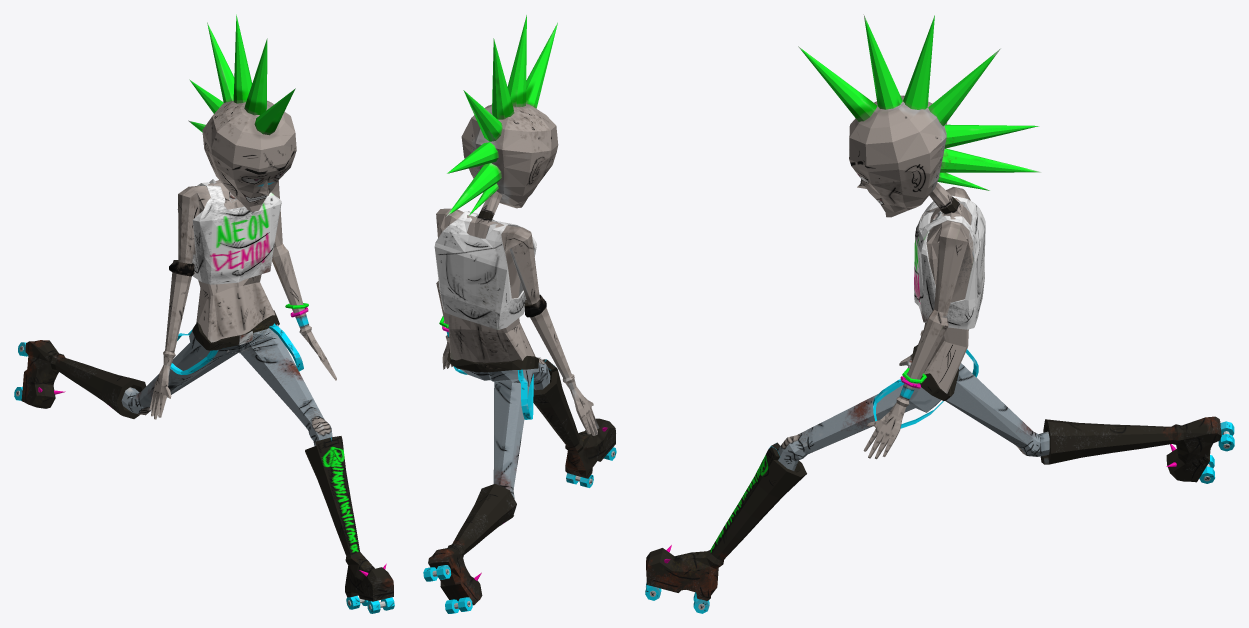
File: punkAnimation_000000.obj
3 renders of one model, left to right at view 1: azimuth 30°, elevation 25°; view 2: azimuth 150°, elevation 25°; view 3: azimuth 270°, elevation 25°, orthographic. The views are drawn at different scales.
Visible parts, largest first — view 1: Cube.004_Cube.003; view 2: Cube.004_Cube.003; view 3: Cube.004_Cube.003.
Boxes of the visible parts, x1,y1,x2,y2 form: Cube.004_Cube.003: (14, 14, 394, 613); Cube.004_Cube.003: (423, 15, 616, 613); Cube.004_Cube.003: (645, 14, 1234, 613).
Size of the model in its own units: 2.22 by 6.44 by 5.89.
